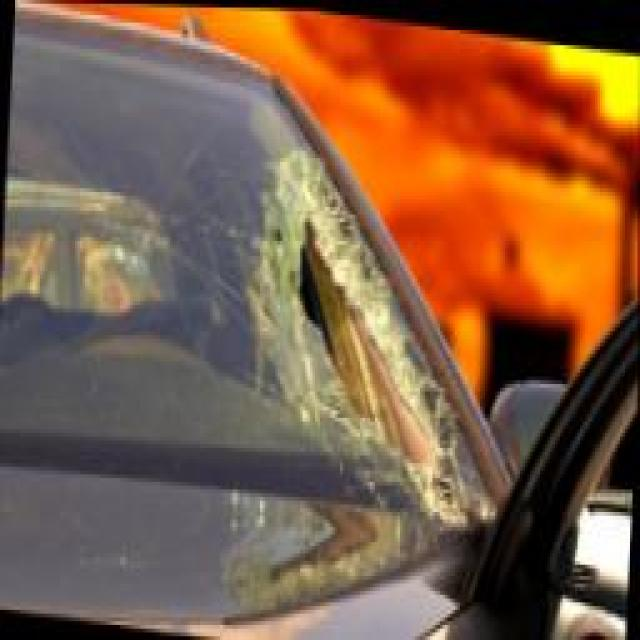Windshield: (0, 4, 537, 628)
